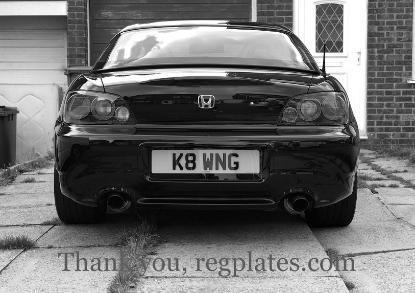license plate: (147, 146, 262, 177)
